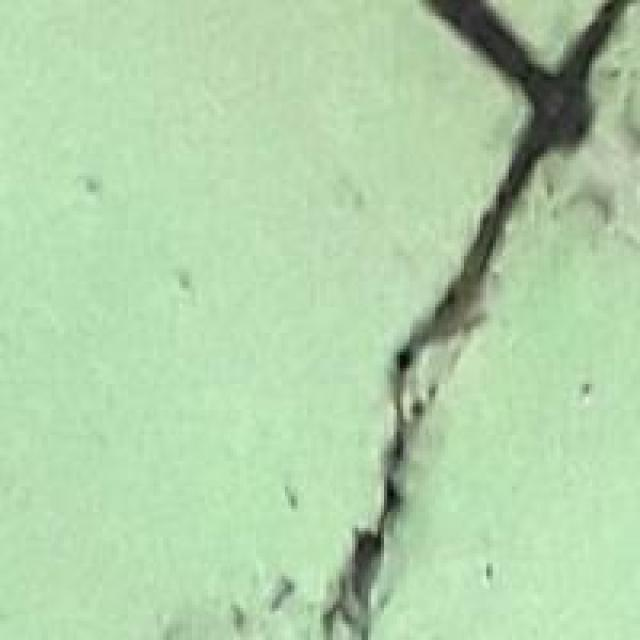crack: (294, 0, 637, 611)
